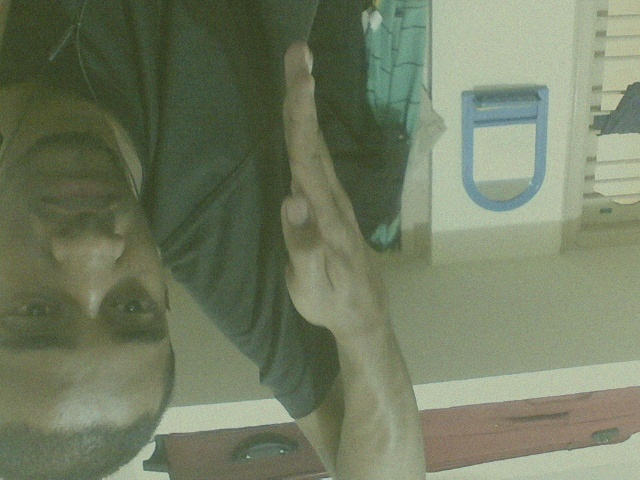hand: (270, 39, 388, 340)
